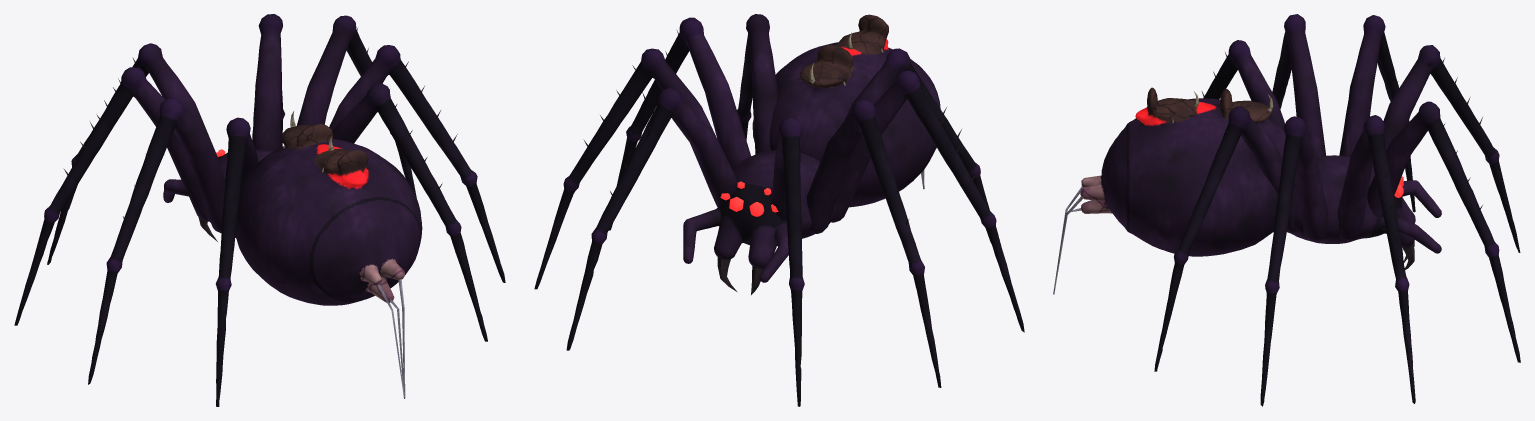
The model's file is bestia_arana.fbx.
3 views of the same model, side by side, from view 1: azimuth 30°, elevation 25°; view 2: azimuth 150°, elevation 25°; view 3: azimuth 270°, elevation 25° (orthographic). The views are drawn at different scales.
Visible parts, largest first — view 1: abdomen, pata_3_der, pata_2_der, pata_4_izq, pata_3_izq, pata_4_der, pata_2_izq, pata_1_izq, pata_1_der, cuerpo; view 2: abdomen, cuerpo, pata_2_der, pata_1_izq, pata_3_der, pata_3_izq, pata_2_izq, pata_1_der, pata_4_izq, pata_4_der, ojos_neon; view 3: abdomen, pata_2_izq, pata_3_izq, pata_1_izq, pata_4_izq, cuerpo, pata_1_der, pata_2_der, pata_3_der, pata_4_der.
Boxes of the visible parts, <box> form: abdomen: <box>235,111,422,398</box>; pata_3_der: <box>88,97,225,384</box>; pata_2_der: <box>14,67,208,325</box>; pata_4_izq: <box>332,83,487,341</box>; pata_3_izq: <box>329,45,505,282</box>; pata_4_der: <box>215,117,258,406</box>; pata_2_izq: <box>297,15,421,222</box>; pata_1_izq: <box>252,14,284,150</box>; pata_1_der: <box>47,43,218,264</box>; cuerpo: <box>163,149,272,241</box>; abdomen: <box>752,14,940,207</box>; cuerpo: <box>683,150,835,294</box>; pata_2_der: <box>807,99,941,387</box>; pata_1_izq: <box>566,88,738,350</box>; pata_3_der: <box>831,70,1024,332</box>; pata_3_izq: <box>609,17,750,230</box>; pata_2_izq: <box>534,48,727,289</box>; pata_1_der: <box>771,117,804,406</box>; pata_4_izq: <box>737,14,778,154</box>; pata_4_der: <box>845,48,989,210</box>; ojos_neon: <box>720,181,778,216</box>; abdomen: <box>1053,87,1297,294</box>; pata_2_izq: <box>1338,115,1415,403</box>; pata_3_izq: <box>1260,116,1327,406</box>; pata_1_izq: <box>1367,101,1520,362</box>; pata_4_izq: <box>1154,106,1298,371</box>; cuerpo: <box>1292,155,1441,269</box>; pata_1_der: <box>1372,45,1520,252</box>; pata_2_der: <box>1339,15,1415,212</box>; pata_3_der: <box>1272,14,1326,156</box>; pata_4_der: <box>1201,40,1284,132</box>.
Size of the model in its own units: 13.98 by 8 by 13.99.
Materials: 1 (1 with a texture image).
